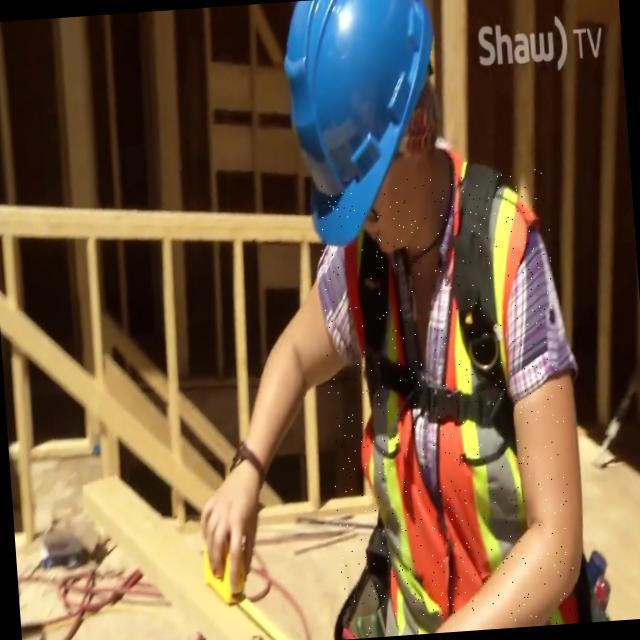helmet: (260, 0, 445, 250)
vest: (313, 168, 578, 639)
